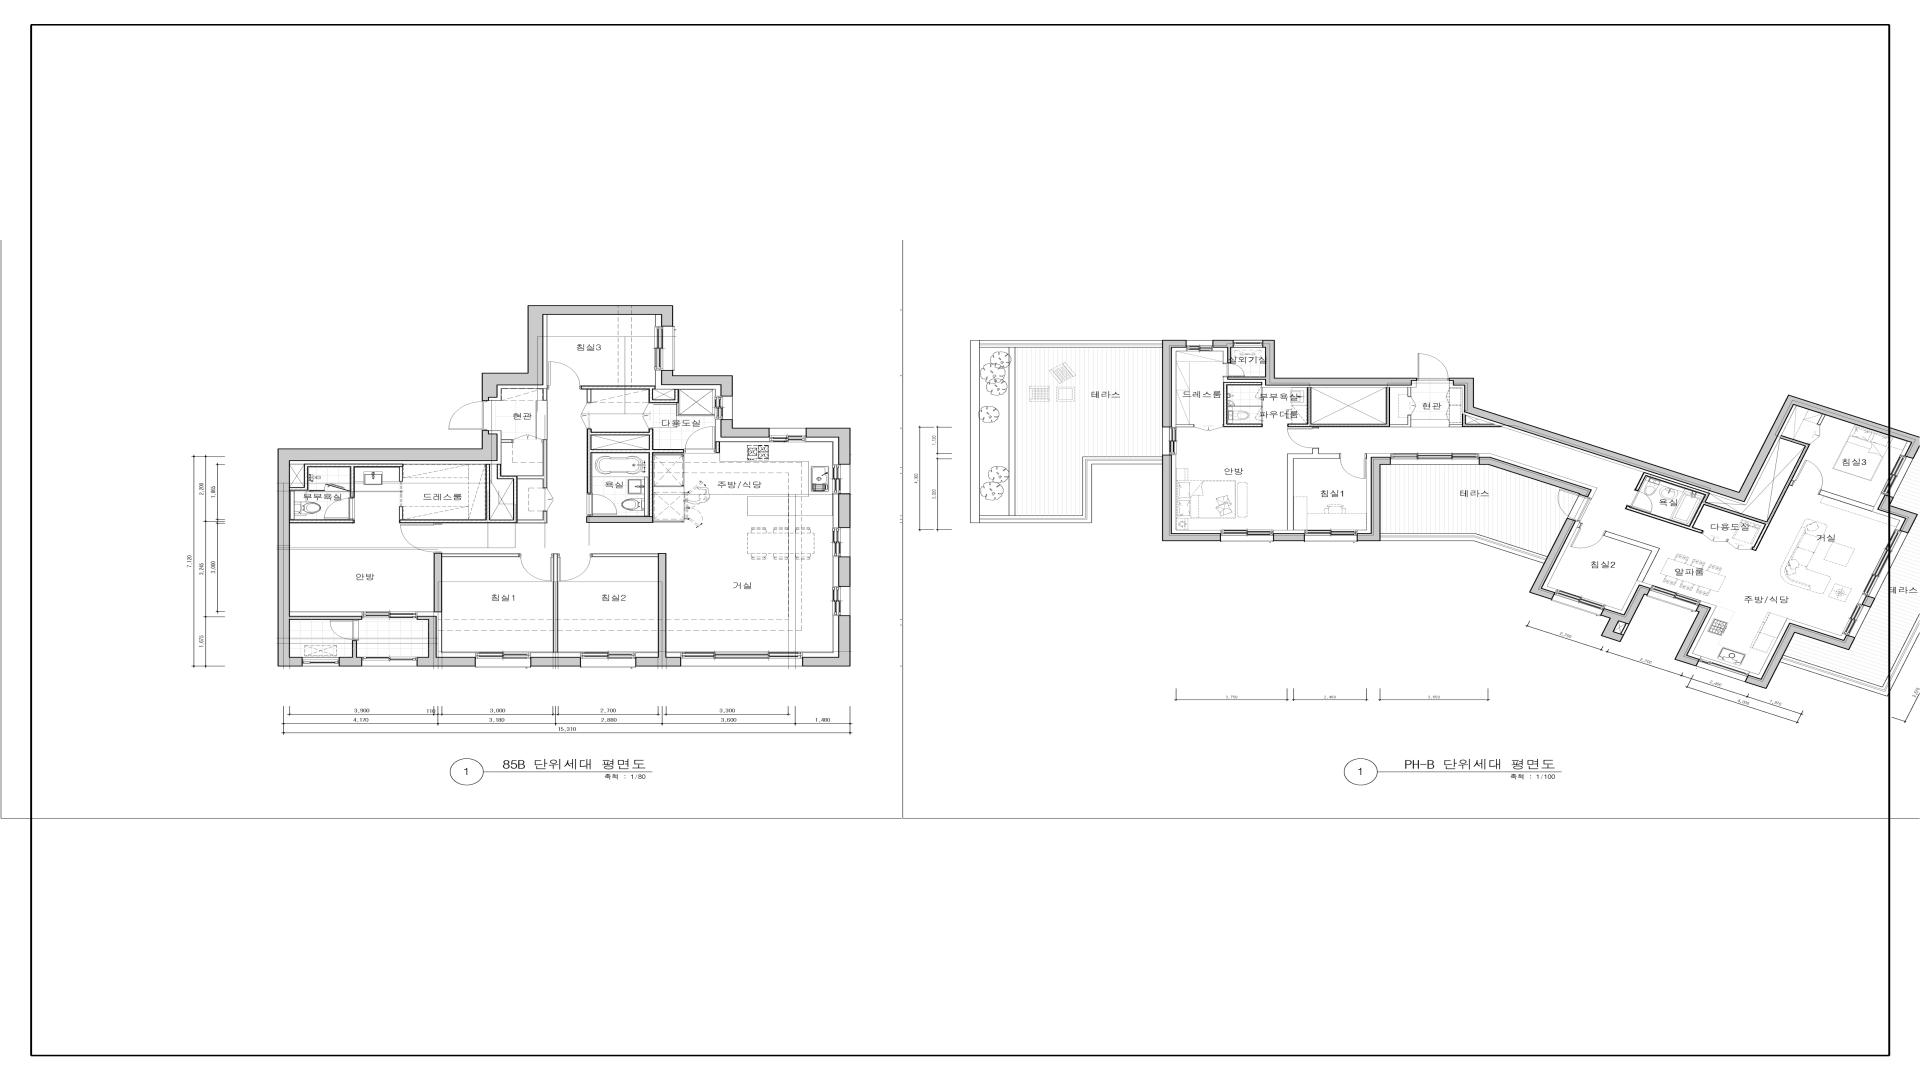door: (1547, 488, 1592, 522), (1792, 460, 1832, 495), (400, 523, 443, 553), (1568, 523, 1606, 554), (449, 401, 486, 431), (558, 553, 592, 581), (520, 553, 553, 581), (547, 362, 581, 389), (1417, 353, 1449, 381), (684, 427, 715, 454), (1626, 490, 1658, 513), (1287, 427, 1319, 449), (587, 493, 617, 516), (1340, 454, 1367, 479), (324, 498, 354, 520), (330, 620, 359, 640), (1700, 531, 1728, 546), (1725, 539, 1753, 553), (309, 483, 350, 491), (1223, 363, 1245, 377), (542, 488, 554, 512), (580, 403, 591, 429), (512, 434, 543, 443), (643, 403, 653, 429), (1194, 424, 1223, 431), (1255, 385, 1263, 400), (1255, 407, 1263, 421), (399, 482, 403, 507)
wall: (1449, 378, 1920, 502), (277, 431, 497, 667), (1625, 435, 1810, 551), (482, 305, 673, 401), (399, 439, 547, 523), (586, 429, 684, 523), (1227, 340, 1417, 386), (1745, 623, 1855, 689), (635, 553, 681, 667), (1162, 455, 1221, 541), (434, 553, 519, 612), (1287, 387, 1411, 427), (1479, 457, 1592, 497), (1287, 449, 1340, 530), (581, 386, 715, 416), (1529, 518, 1576, 600), (290, 464, 403, 498), (417, 616, 476, 667), (1604, 531, 1660, 582), (1357, 457, 1391, 541), (1601, 585, 1651, 642), (803, 616, 851, 667), (1675, 604, 1711, 667), (1162, 340, 1187, 427), (661, 370, 733, 396), (1223, 382, 1263, 427), (805, 428, 851, 465), (1878, 495, 1918, 533), (1819, 490, 1874, 512), (721, 419, 770, 437), (1449, 413, 1504, 427), (339, 640, 362, 667), (531, 657, 581, 667), (553, 554, 558, 653), (1213, 340, 1234, 363), (838, 494, 850, 528), (838, 557, 850, 587), (1273, 533, 1305, 541), (1228, 400, 1263, 407), (592, 554, 658, 557), (290, 520, 355, 523), (1862, 596, 1875, 608), (1817, 414, 1826, 425), (1621, 624, 1629, 635), (542, 389, 547, 401), (1176, 424, 1194, 427), (502, 439, 513, 443), (1408, 387, 1411, 397), (1262, 421, 1263, 424)
window: (1862, 529, 1908, 598), (681, 652, 802, 666), (1551, 589, 1606, 616), (1647, 585, 1701, 612), (1697, 656, 1750, 682), (1881, 455, 1913, 497), (1842, 603, 1871, 638), (1391, 454, 1479, 465), (476, 652, 531, 668), (655, 326, 675, 370), (581, 652, 635, 668), (1221, 530, 1273, 542), (1305, 530, 1357, 542), (833, 528, 851, 557), (832, 587, 850, 616), (770, 428, 806, 442), (362, 657, 417, 666), (833, 465, 850, 494), (715, 396, 733, 419), (362, 612, 417, 619), (1162, 428, 1176, 455), (303, 658, 339, 667), (1187, 340, 1213, 351), (1234, 340, 1262, 348)
